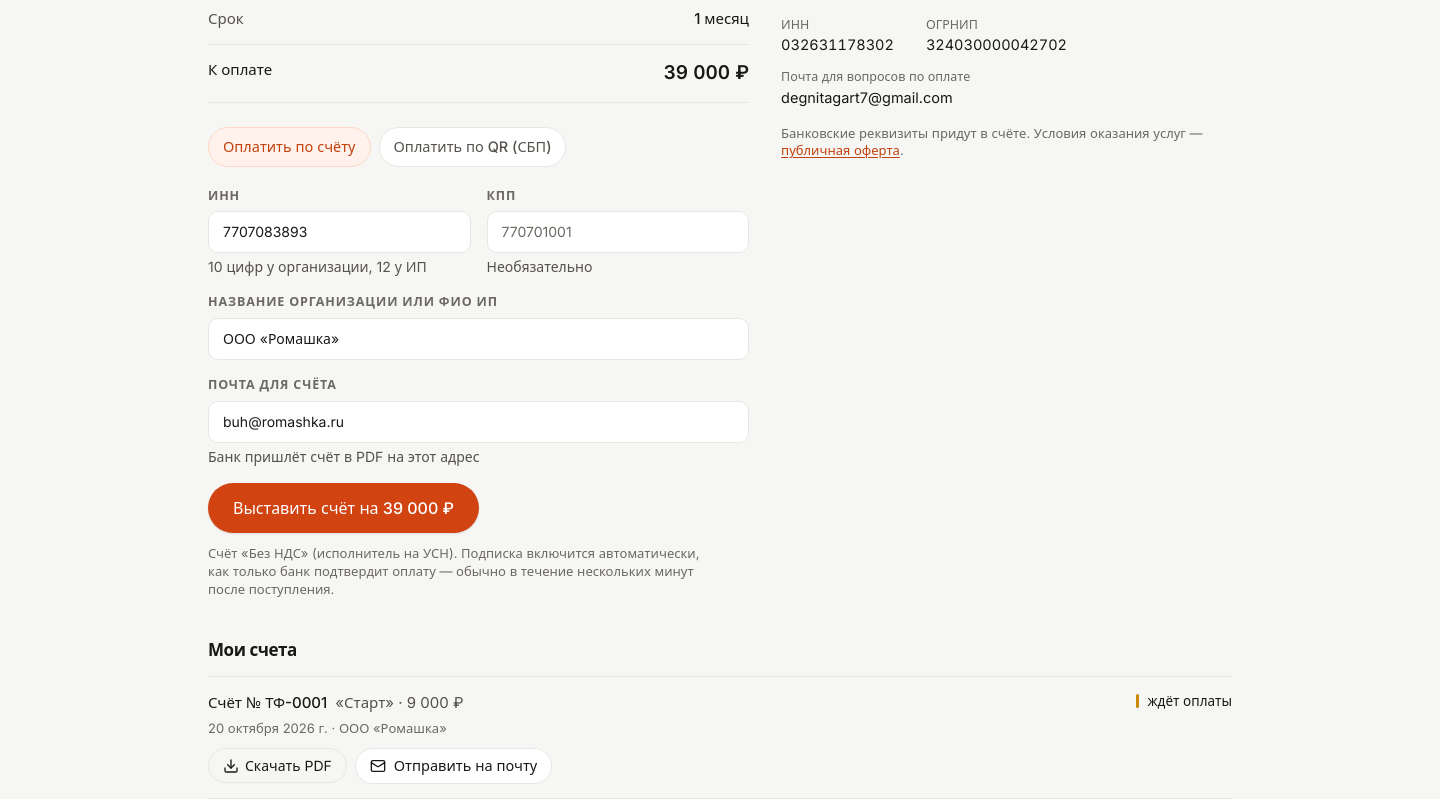
BillingView — мои счета и автообновление › повторная отправка на почту
(page scrolled)
Click the button "Отправить на почту" at (454, 766), box [355,748,552,784]
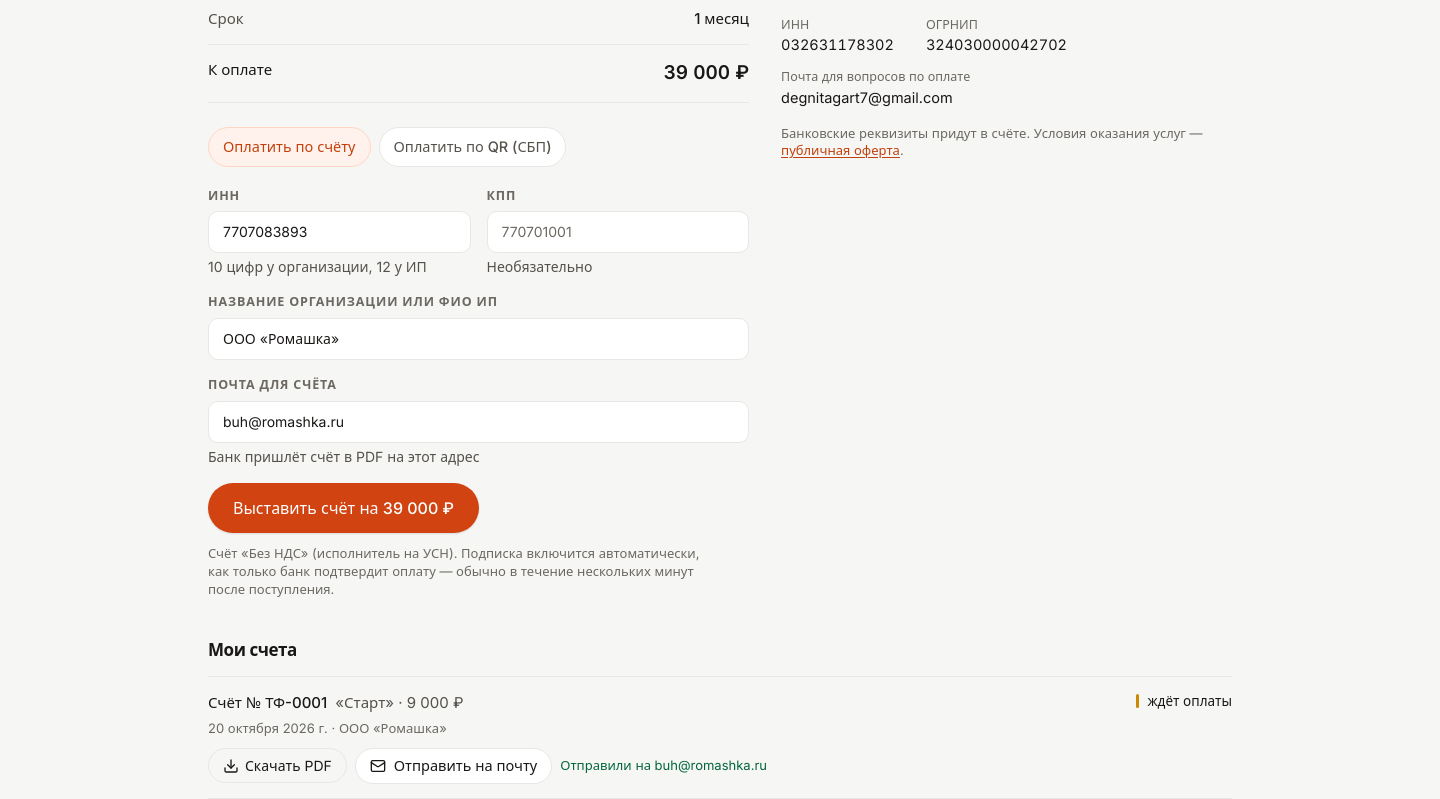
Expected: the text "Отправили на buh@romashka.ru" is shown, [560,756,767,776]
